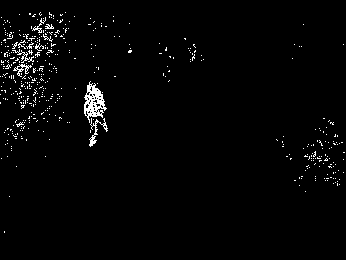person: (81, 79, 109, 149)
